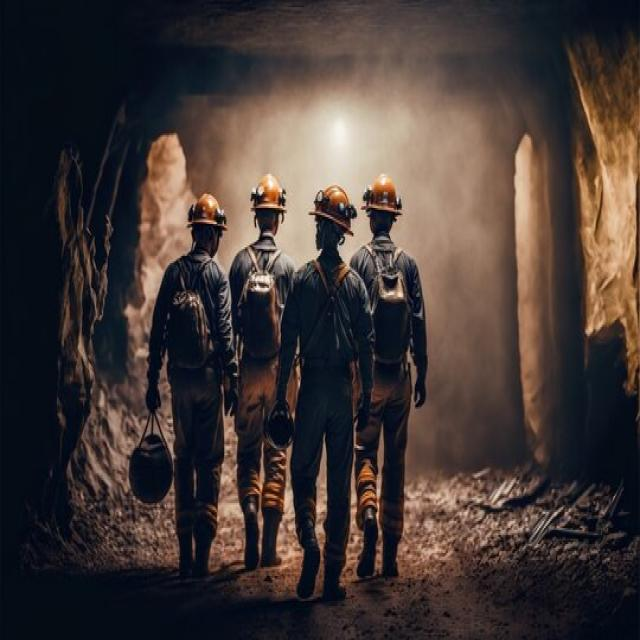person: (140, 190, 233, 577), (291, 184, 366, 613), (228, 175, 293, 588), (358, 177, 416, 583)
safety_helmet: (312, 183, 356, 238), (178, 191, 228, 223), (367, 169, 402, 212), (254, 175, 284, 210)
